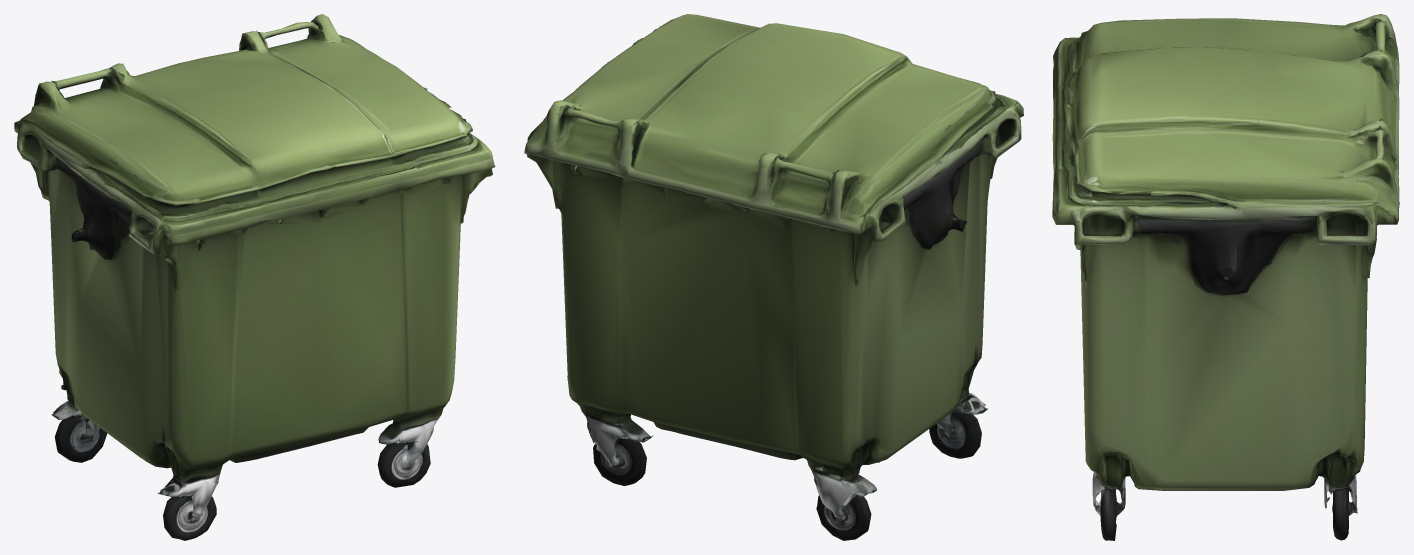
File: ride_bin.glb
3 renders of one model, left to right at view 1: azimuth 30°, elevation 25°; view 2: azimuth 150°, elevation 25°; view 3: azimuth 270°, elevation 25°, orthographic. The views are drawn at different scales.
Visible parts, largest first — view 1: tripo_node_239aa708-7d16-4cb0-86b2-f8a97e487c31; view 2: tripo_node_239aa708-7d16-4cb0-86b2-f8a97e487c31; view 3: tripo_node_239aa708-7d16-4cb0-86b2-f8a97e487c31.
Boxes of the visible parts, box(x1,y1,x2,y2) form: tripo_node_239aa708-7d16-4cb0-86b2-f8a97e487c31: box(14, 14, 495, 540); tripo_node_239aa708-7d16-4cb0-86b2-f8a97e487c31: box(524, 14, 1023, 540); tripo_node_239aa708-7d16-4cb0-86b2-f8a97e487c31: box(1052, 14, 1399, 540).
Bounding box in the file's own units: 0.9839 × 0.9881 × 0.7565.
Materials: 1 (1 with a texture image).
